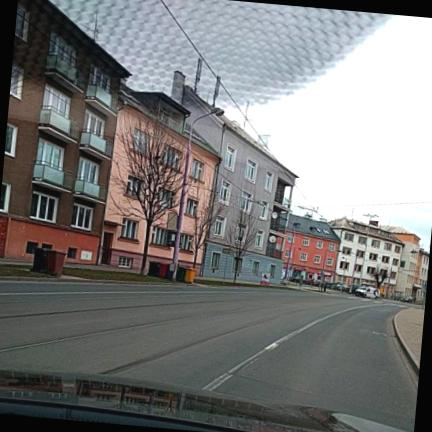Road: (0, 282, 417, 431)
